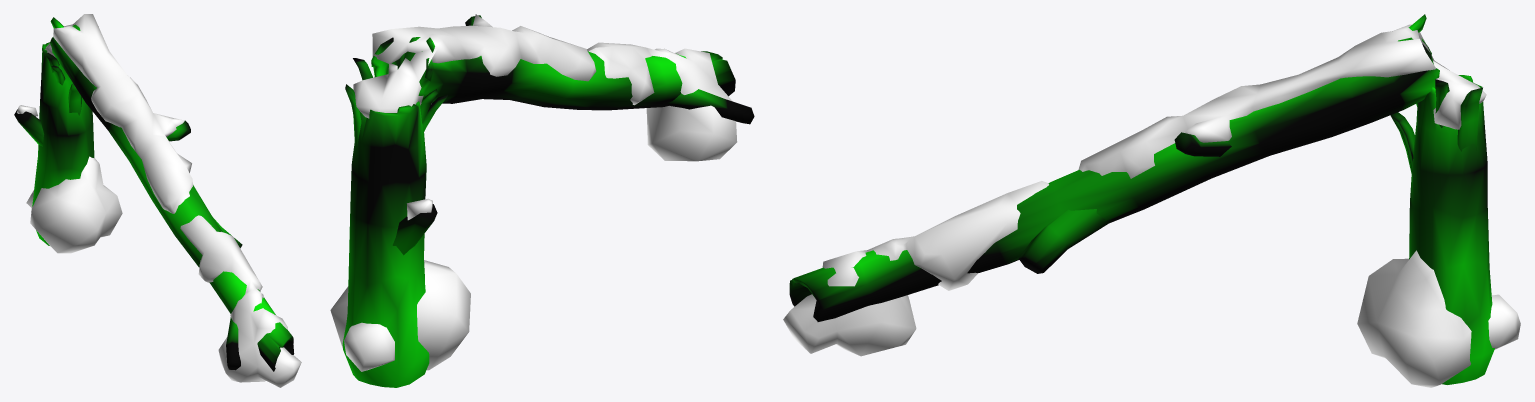
Rendered from SM_PineFallen2_SnowCover.FBX.
The picture shows the model from 3 angles, left to right: view 1: azimuth 30°, elevation 25°; view 2: azimuth 150°, elevation 25°; view 3: azimuth 270°, elevation 25°; orthographic projection. The views are drawn at different scales.
Parts seen in each view (by area): view 1: SM_PineFallen2_SnowCover_LOD0; view 2: SM_PineFallen2_SnowCover_LOD0; view 3: SM_PineFallen2_SnowCover_LOD0.
Part boxes in pixels (x1,y1,x2,y2): SM_PineFallen2_SnowCover_LOD0: (14, 14, 301, 387); SM_PineFallen2_SnowCover_LOD0: (330, 14, 754, 387); SM_PineFallen2_SnowCover_LOD0: (783, 14, 1520, 387).
Size of what is drawn, in the model's own units: 220 by 533 by 1035.
